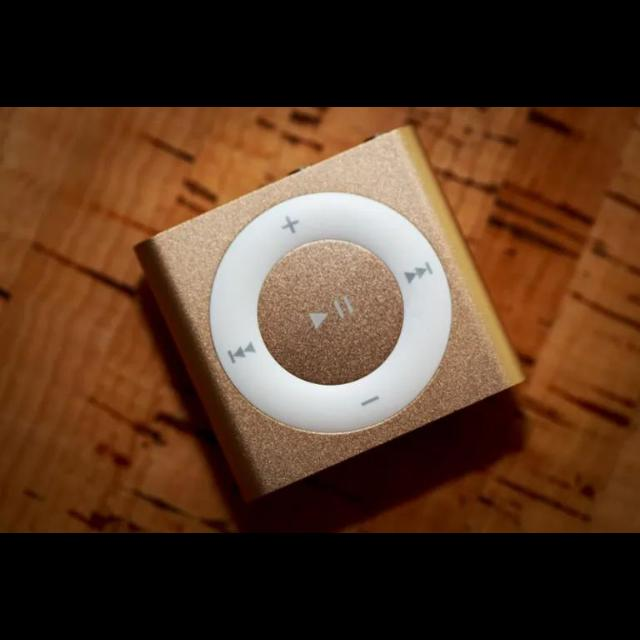Music-Player: (132, 110, 530, 502)
